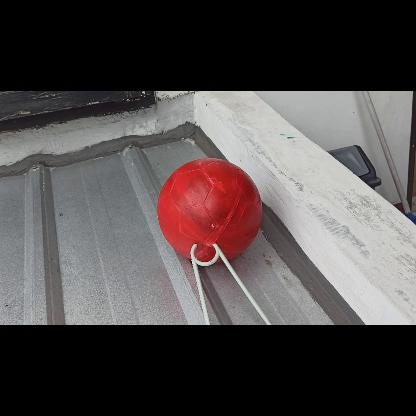red_ball: (156, 158, 262, 262)
